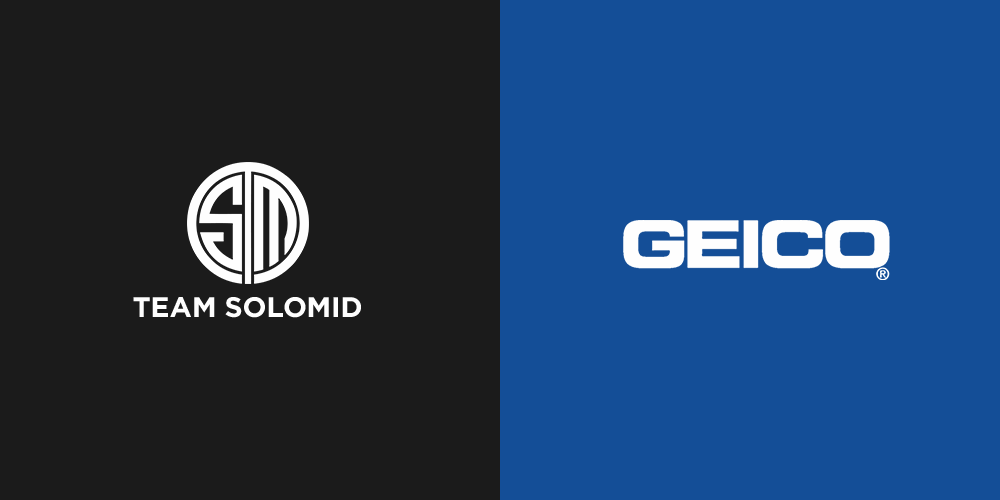geico: (615, 210, 906, 282)
